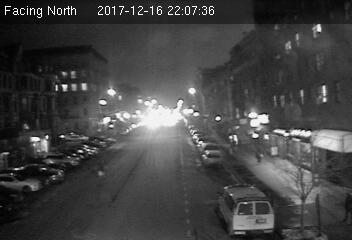car: (203, 150, 223, 167)
police: (214, 182, 276, 237)
